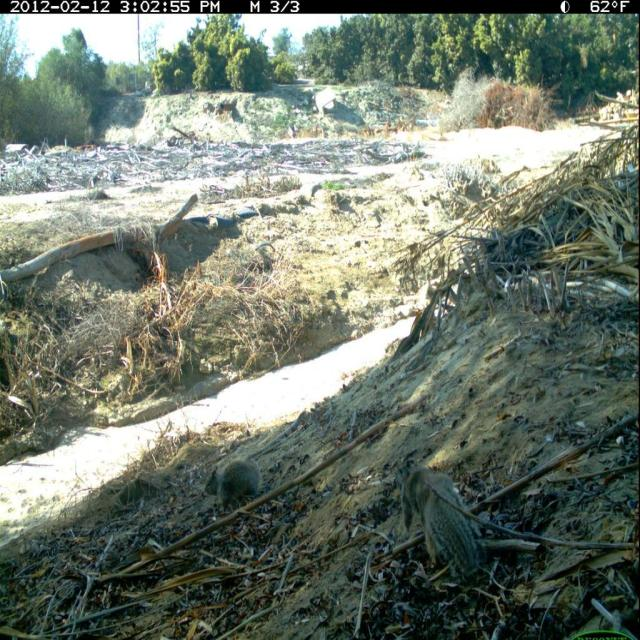squirrel: (389, 455, 486, 585), (201, 446, 270, 516)
